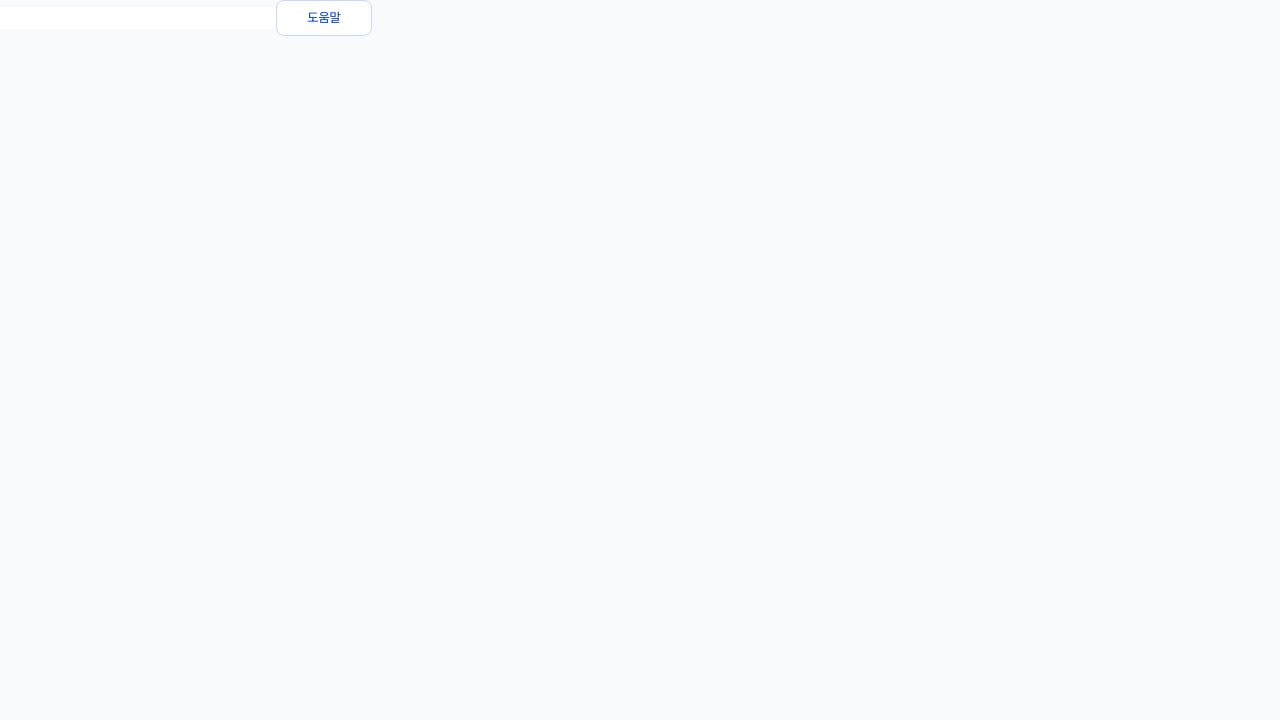
a restart leaves focus alone when the user moved outside the panel meanwhile
The image size is (1280, 720).
Click the button "도움말".
click(324, 18)  # box [276,0,372,36]
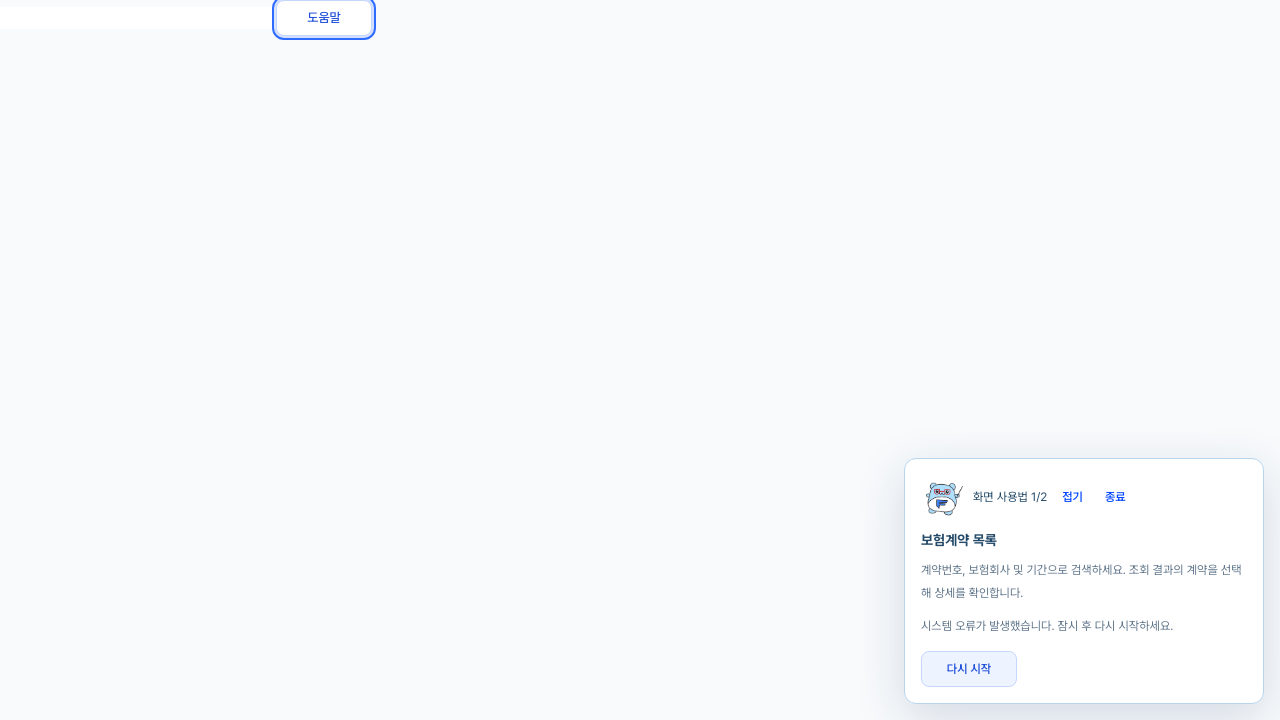
Click the button "다시 시작".
click(969, 669)  # box [921,651,1017,687]
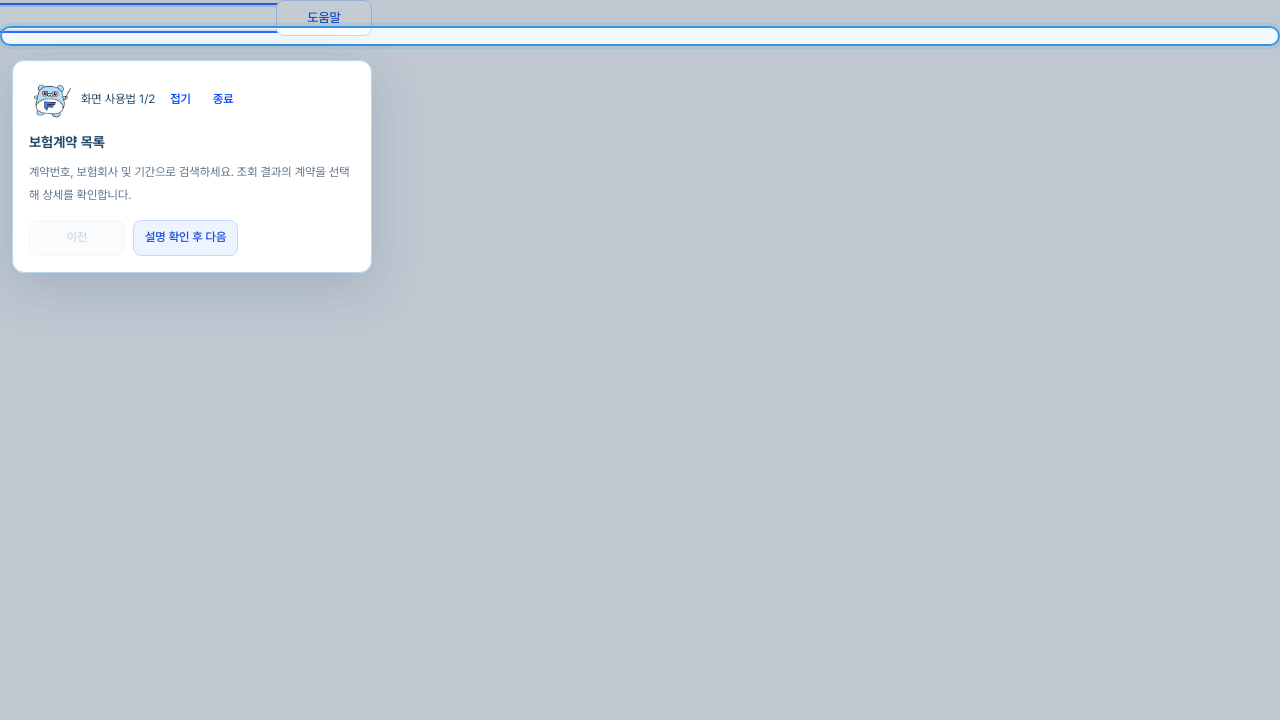
Expected: the button "설명 확인 후 다음" is enabled, [133,220,238,256]
